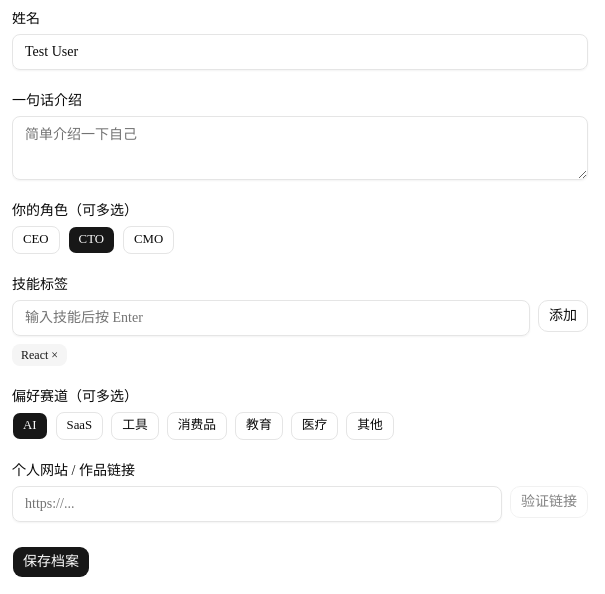
Scenario: ProfileForm › 点击技能标签可将其从列表中移除
The width and height of the screenshot is (605, 594).
Click the text "React ×".
click(40, 355)  # box [12,344,67,366]
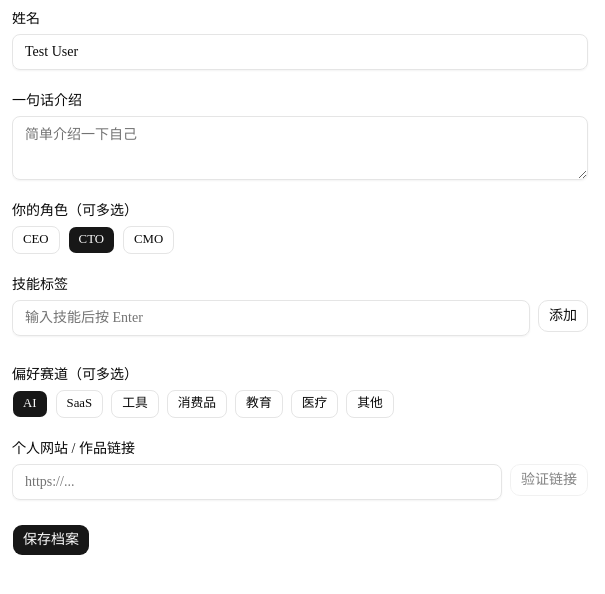
Expected: the text "React ×" is gone
